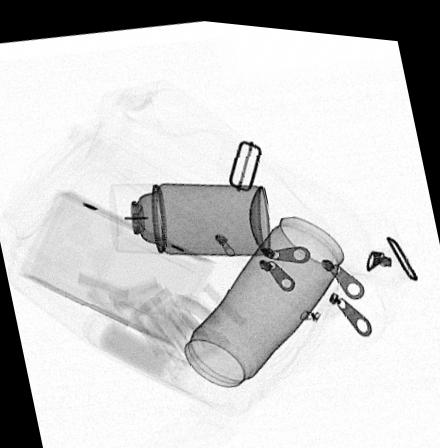Sprayer: (105, 176, 271, 251)
